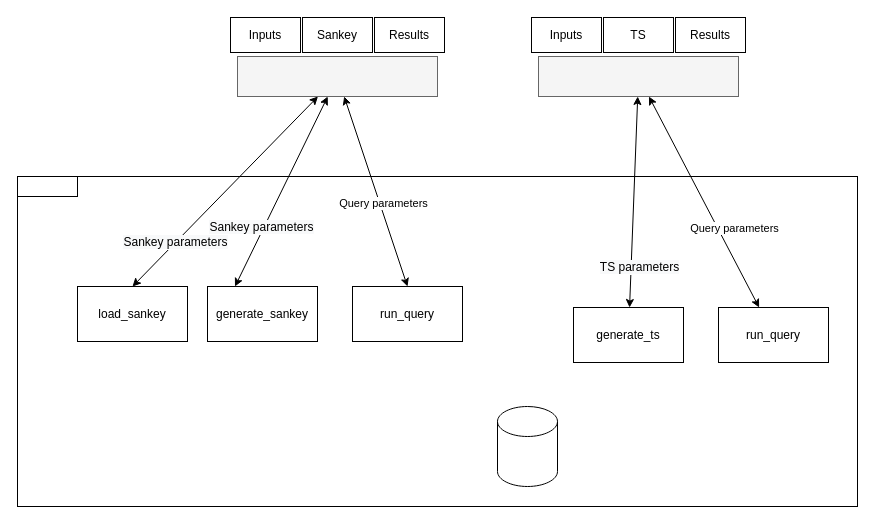
This 875x524 diagram has some shape labels left out. Each missing label, with the centre of its shape:
"Backend" belongs at (47,186).
"DB" belongs at (527,446).
"forms" belongs at (638,76).
"mining_forms" belongs at (337,76).
